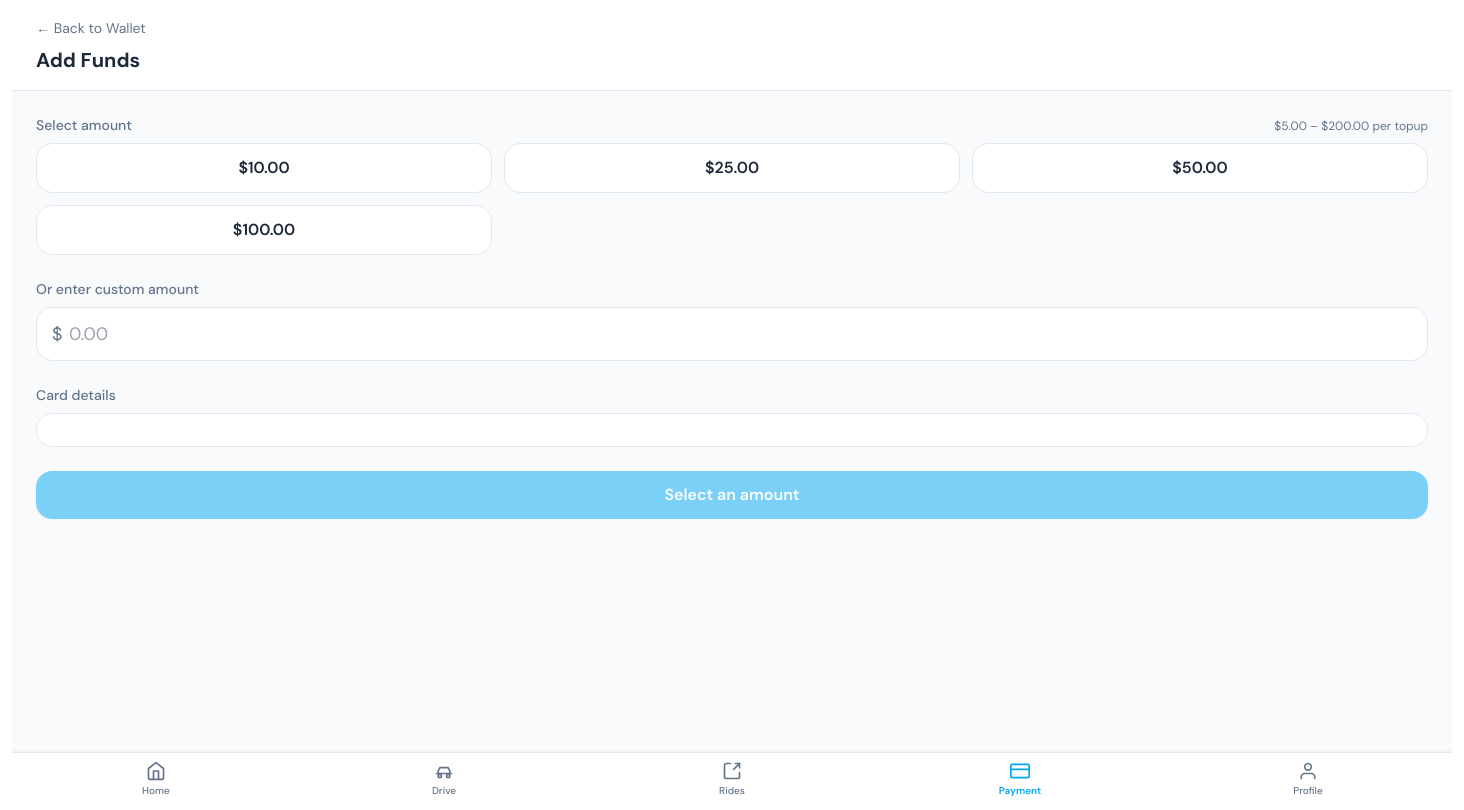
AddFundsPage › custom amount below $5 shows minimum error
Type "3.00" into the field with test id "custom-amount-input" at x=732, y=334, box [36,307,1428,361]
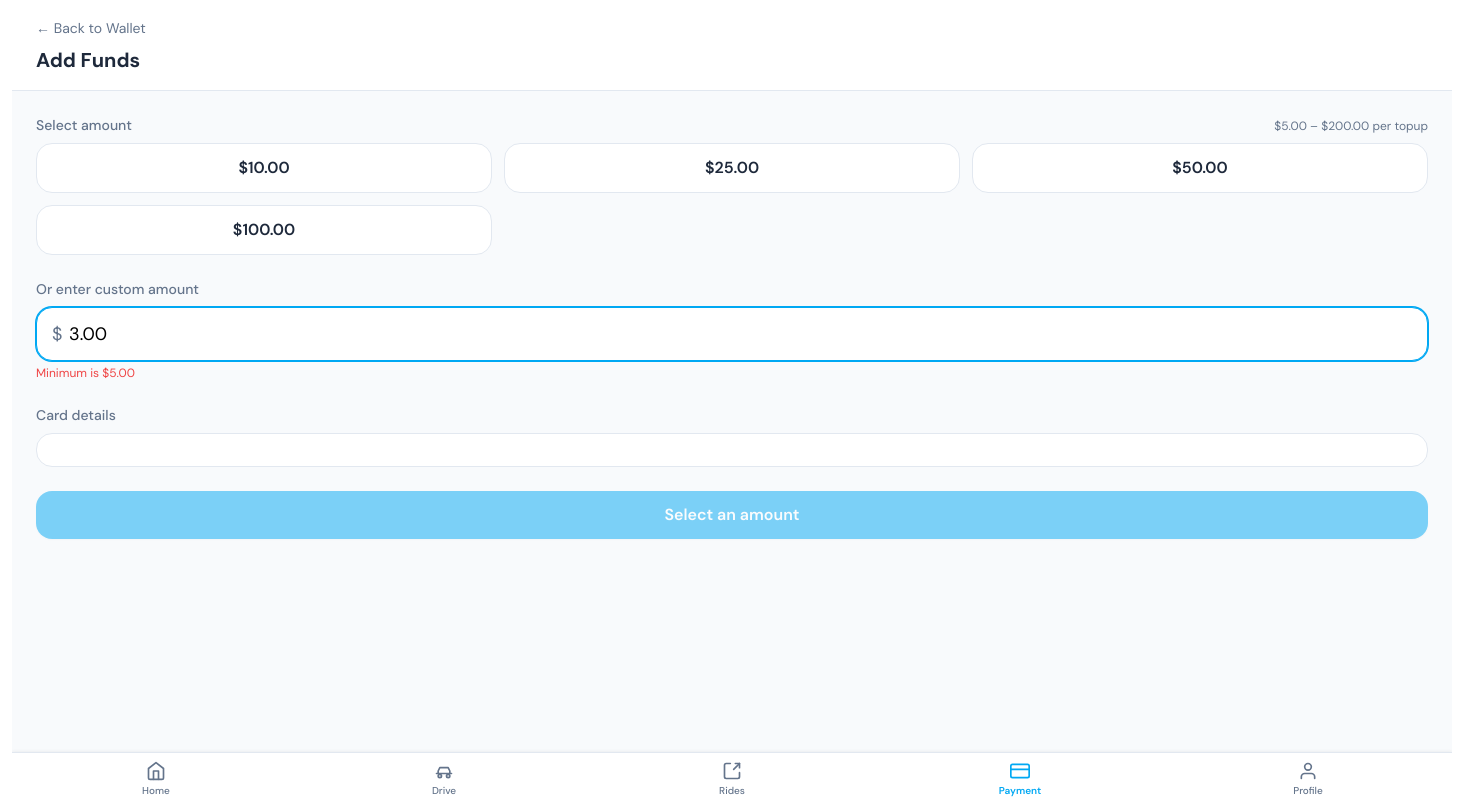
Now the text with test id "amount-error" reads "Minimum is $5.00", box [36,365,135,381]
